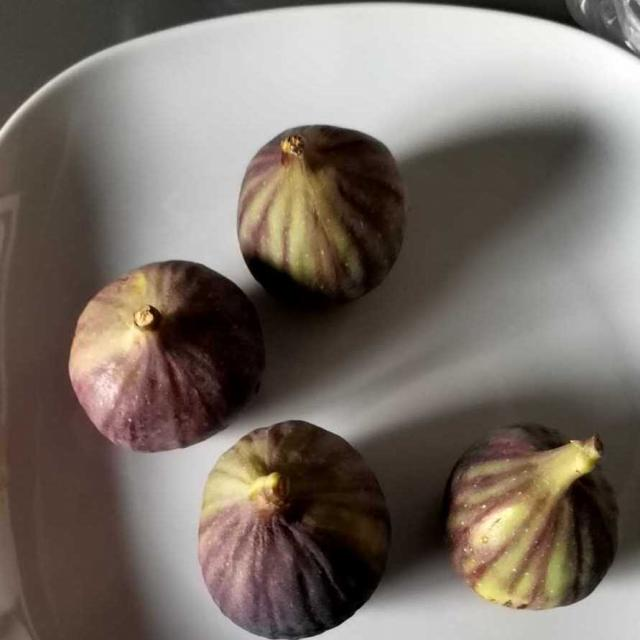figs: (44, 107, 633, 626)
